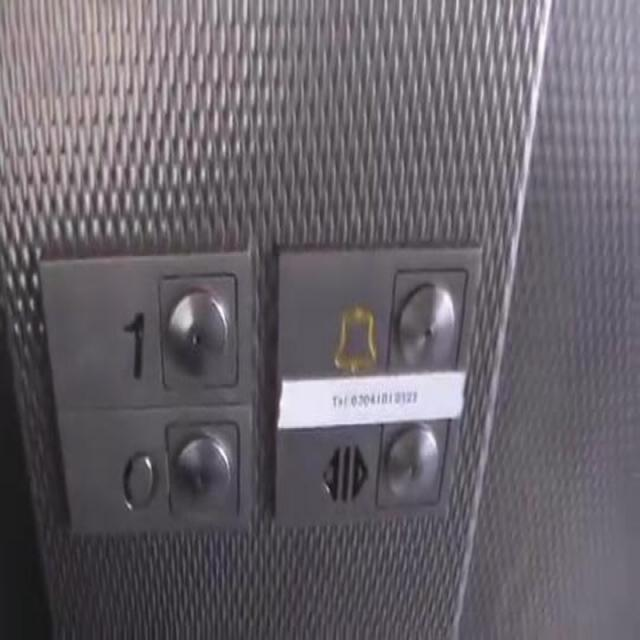0: (48, 393, 255, 535)
1: (33, 245, 256, 415)
alarm: (272, 238, 484, 382)
open: (270, 405, 463, 520)
